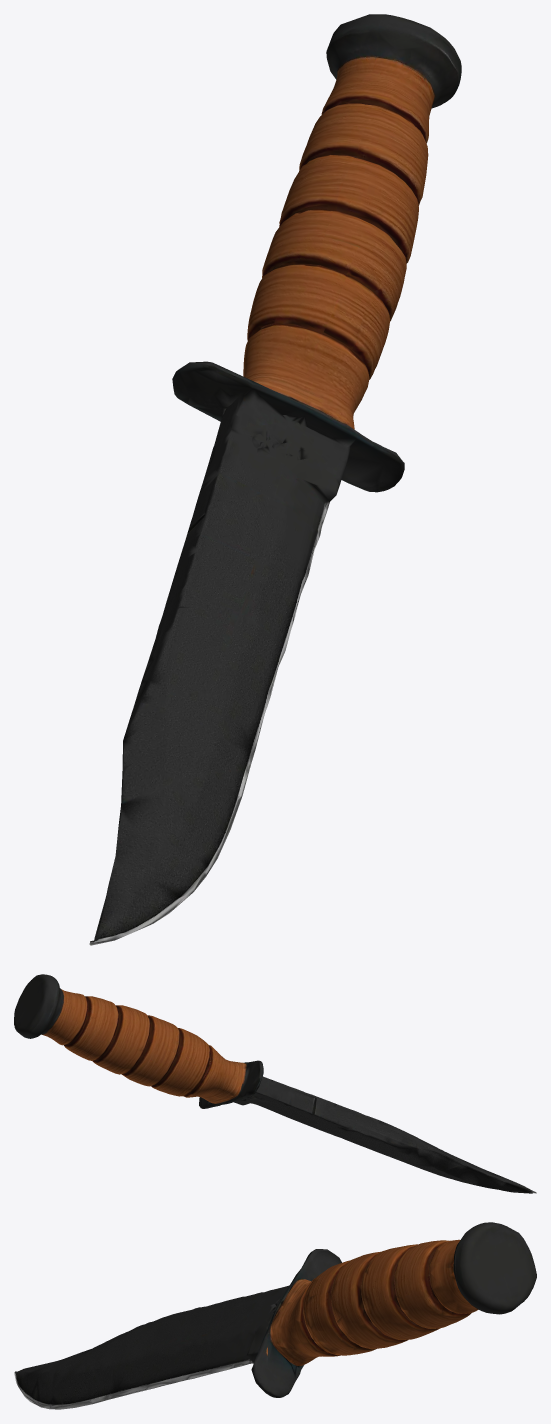
The model's file is knife.glb.
3 renders of one model, top to bottom at view 1: azimuth 30°, elevation 25°; view 2: azimuth 150°, elevation 25°; view 3: azimuth 270°, elevation 25°, orthographic. The views are drawn at different scales.
Parts seen in each view (by area): view 1: tripo_node_e68496eb-a074-4515-8d66-ceba74e8af3c; view 2: tripo_node_e68496eb-a074-4515-8d66-ceba74e8af3c; view 3: tripo_node_e68496eb-a074-4515-8d66-ceba74e8af3c.
Boxes of the visible parts, x1=… form: tripo_node_e68496eb-a074-4515-8d66-ceba74e8af3c: x1=89, y1=14, x2=461, y2=945; tripo_node_e68496eb-a074-4515-8d66-ceba74e8af3c: x1=14, y1=974, x2=536, y2=1193; tripo_node_e68496eb-a074-4515-8d66-ceba74e8af3c: x1=14, y1=1222, x2=536, y2=1409.
Bounding box in the file's own units: 0.9777 × 0.7011 × 0.9134.
Materials: 1 (1 with a texture image).
